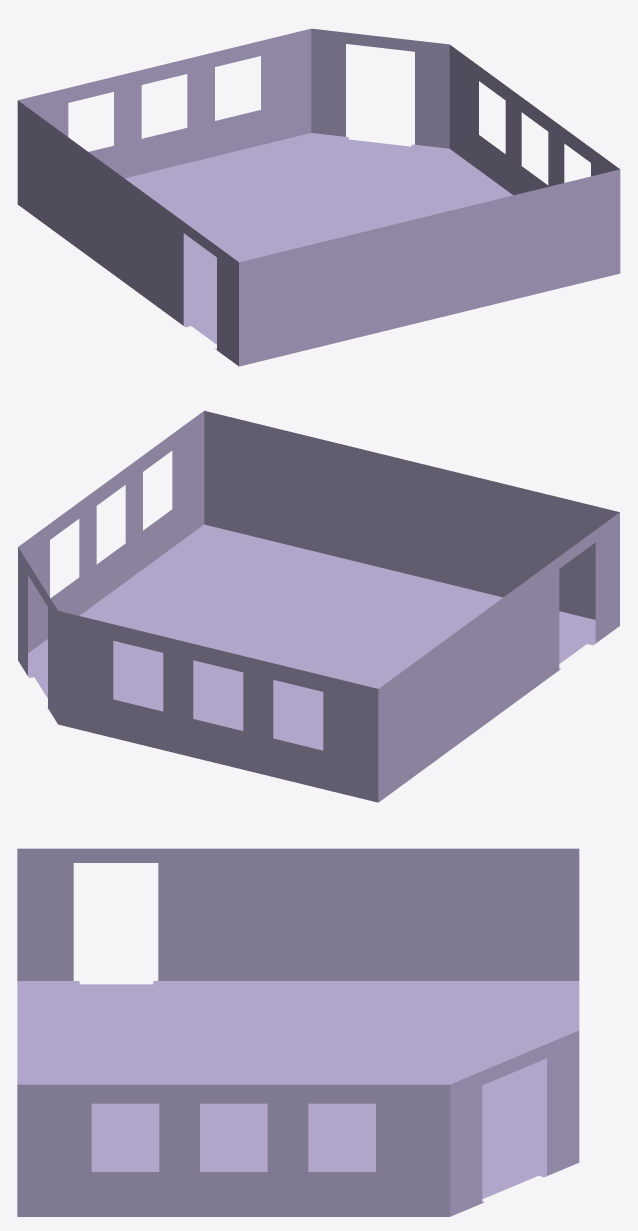
File: Bld_R_low_L5_A.fbx
The picture shows the model from 3 angles, top to bottom: view 1: azimuth 30°, elevation 25°; view 2: azimuth 150°, elevation 25°; view 3: azimuth 270°, elevation 25°; orthographic projection. The views are drawn at different scales.
Parts seen in each view (by area): view 1: Bld_R_low_L5_A_LOD0; view 2: Bld_R_low_L5_A_LOD0; view 3: Bld_R_low_L5_A_LOD0.
Boxes of the visible parts, x1,y1,x2,y2 form: Bld_R_low_L5_A_LOD0: (17, 28, 620, 366); Bld_R_low_L5_A_LOD0: (18, 410, 619, 802); Bld_R_low_L5_A_LOD0: (17, 848, 579, 1216).
Size of what is drawn, in the model's own units: 1400 by 562 by 1498.
Materials: 1 (1 with a texture image).
